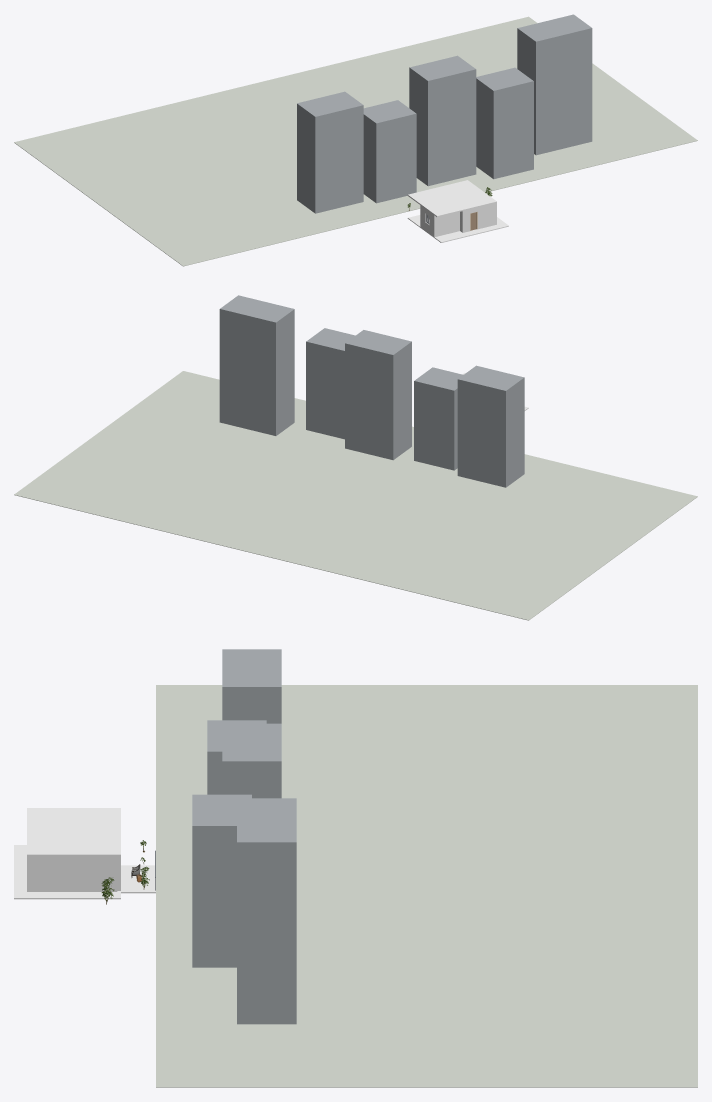
Rendered from living.glb.
3 renders of one model, top to bottom at view 1: azimuth 30°, elevation 25°; view 2: azimuth 150°, elevation 25°; view 3: azimuth 270°, elevation 25°, orthographic. The views are drawn at different scales.
Parts seen in each view (by area): view 1: ground, bldg3, bldg1, bldg4, bldg2, bldg0, BAKE_A; view 2: ground, bldg3, bldg1, bldg4, bldg0, bldg2; view 3: ground, bldg3, BAKE_A, bldg2, bldg1, bldg4, bldg0.
Boxes of the visible parts, box(x1,y1,x2,y2) form: ground: box(14, 16, 697, 266); bldg3: box(517, 14, 592, 155); bldg1: box(409, 55, 476, 186); bldg4: box(297, 91, 363, 213); bldg2: box(476, 67, 533, 179); bldg0: box(363, 100, 416, 203); BAKE_A: box(407, 180, 508, 242); ground: box(14, 371, 697, 620); bldg3: box(219, 295, 294, 435); bldg1: box(345, 330, 411, 460); bldg4: box(457, 365, 524, 487); bldg0: box(414, 367, 463, 470); bldg2: box(306, 328, 355, 439); ground: box(156, 685, 697, 1087); bldg3: box(237, 798, 296, 1024); BAKE_A: box(14, 808, 155, 899); bldg2: box(192, 794, 251, 967); bldg1: box(222, 723, 281, 798); bldg4: box(222, 649, 281, 723); bldg0: box(207, 720, 266, 794).
Bounding box in the file's own units: 64 × 13.55 × 46.
47 materials, 16 textured.
